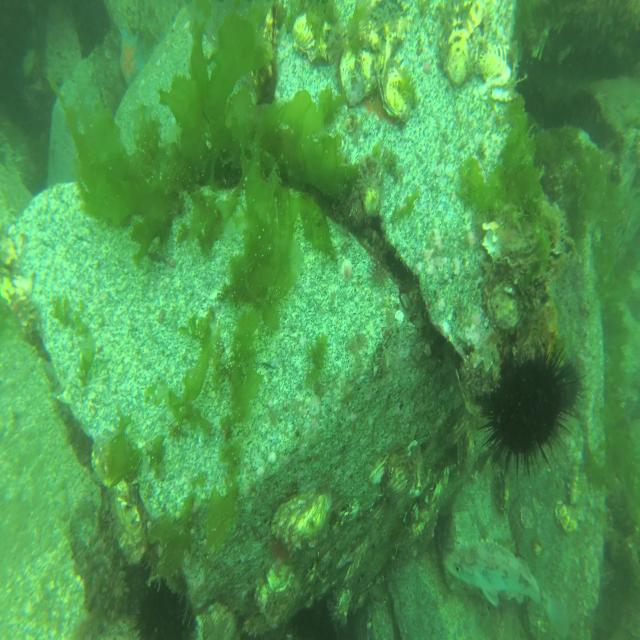echinus: (476, 339, 588, 483), (127, 576, 186, 640)
starfish: (119, 21, 152, 90)
